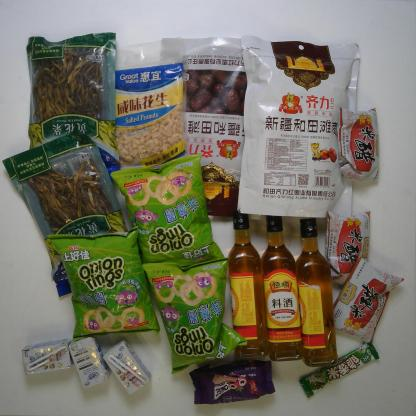Chocolate: (298, 342, 383, 398)
Dessert: (186, 365, 274, 403)
Dried Food: (241, 35, 355, 219), (1, 134, 129, 297), (156, 36, 249, 218), (27, 33, 116, 182)
Dried Fruit: (109, 42, 189, 173)
Milk: (102, 339, 152, 395), (69, 337, 112, 392), (18, 343, 76, 376)
Puffed Food: (110, 155, 226, 276), (46, 224, 160, 338), (143, 257, 235, 370)
Seasoner: (253, 209, 304, 361), (294, 206, 340, 368), (223, 206, 270, 363), (330, 260, 404, 346), (324, 206, 375, 284), (338, 104, 380, 184)
